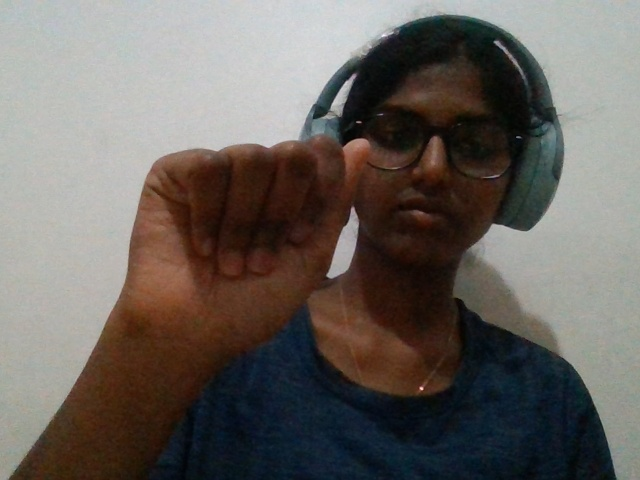A: (66, 123, 378, 419)
